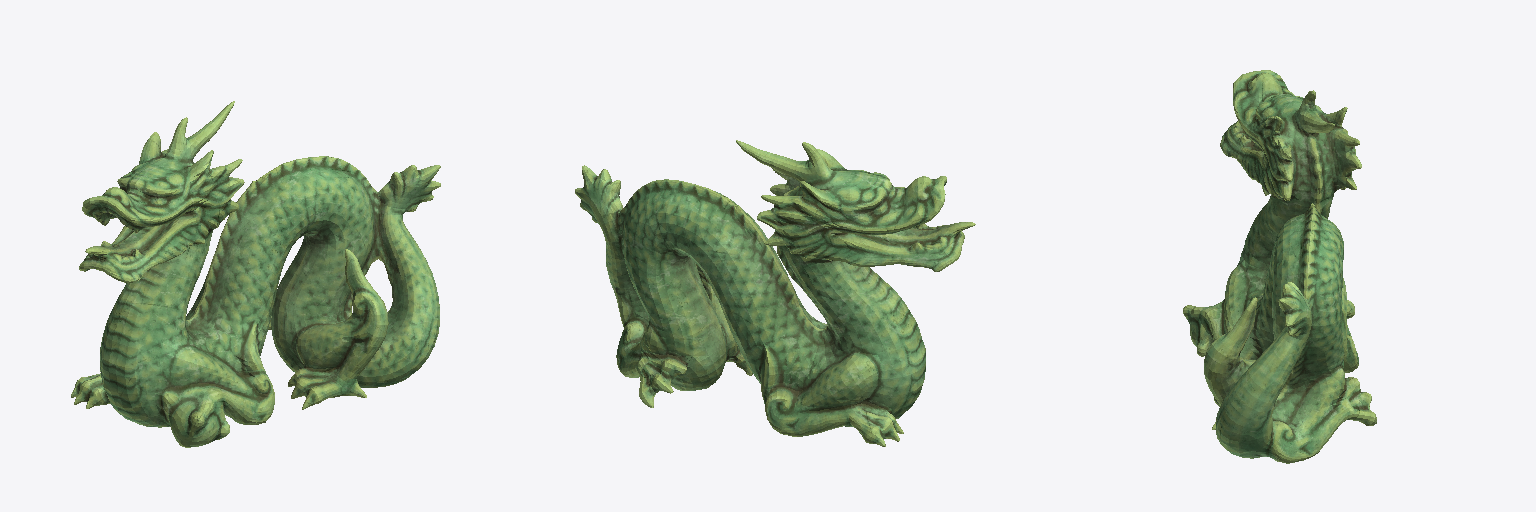
3 renders of one model, left to right at view 1: azimuth 30°, elevation 25°; view 2: azimuth 150°, elevation 25°; view 3: azimuth 270°, elevation 25°, orthographic.
Parts seen in each view (by area): view 1: defaultMaterial; view 2: defaultMaterial; view 3: defaultMaterial.
Boxes of the visible parts, <box> form: defaultMaterial: <box>71,101,440,447</box>; defaultMaterial: <box>575,140,975,446</box>; defaultMaterial: <box>1183,70,1376,463</box>.
Bounding box in the file's own units: 142 × 99.61 × 63.21.
1 materials, 1 textured.